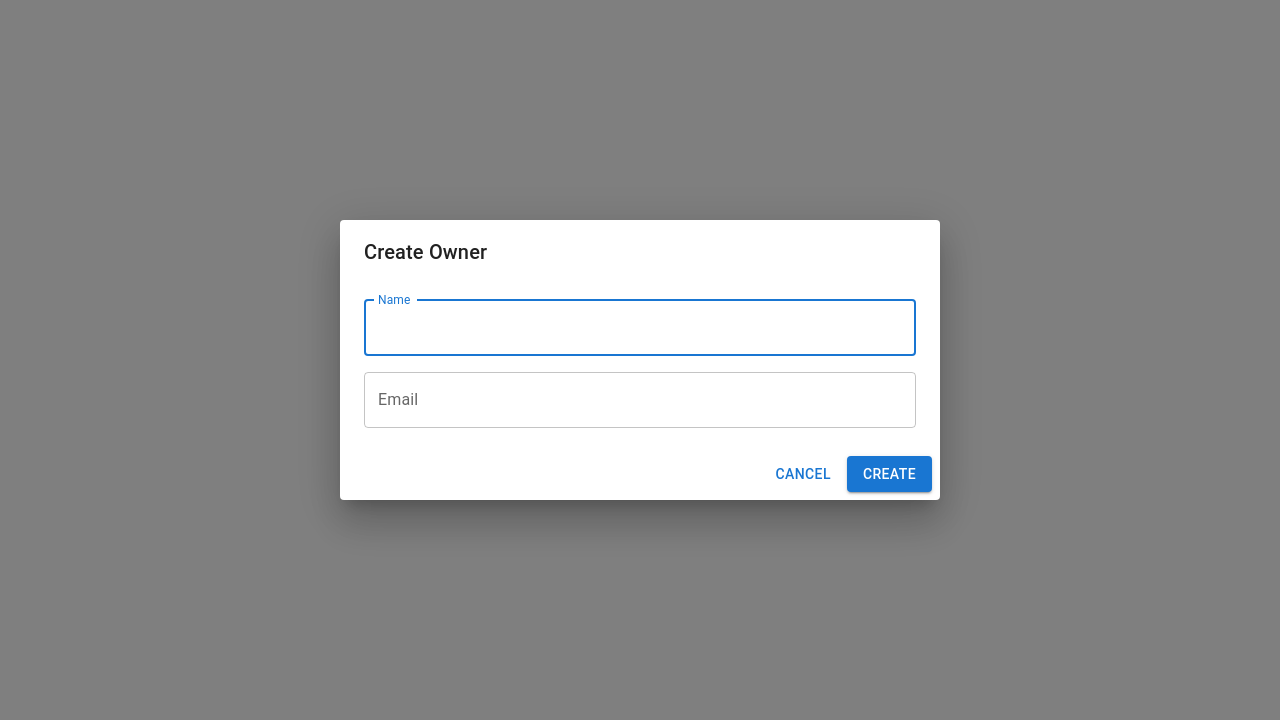
Test: CreateOwnerDialog validation › shows required errors when submitted with empty fields
The image size is (1280, 720).
Click the button "Create" at coordinates (889, 474), box [847, 456, 932, 492]
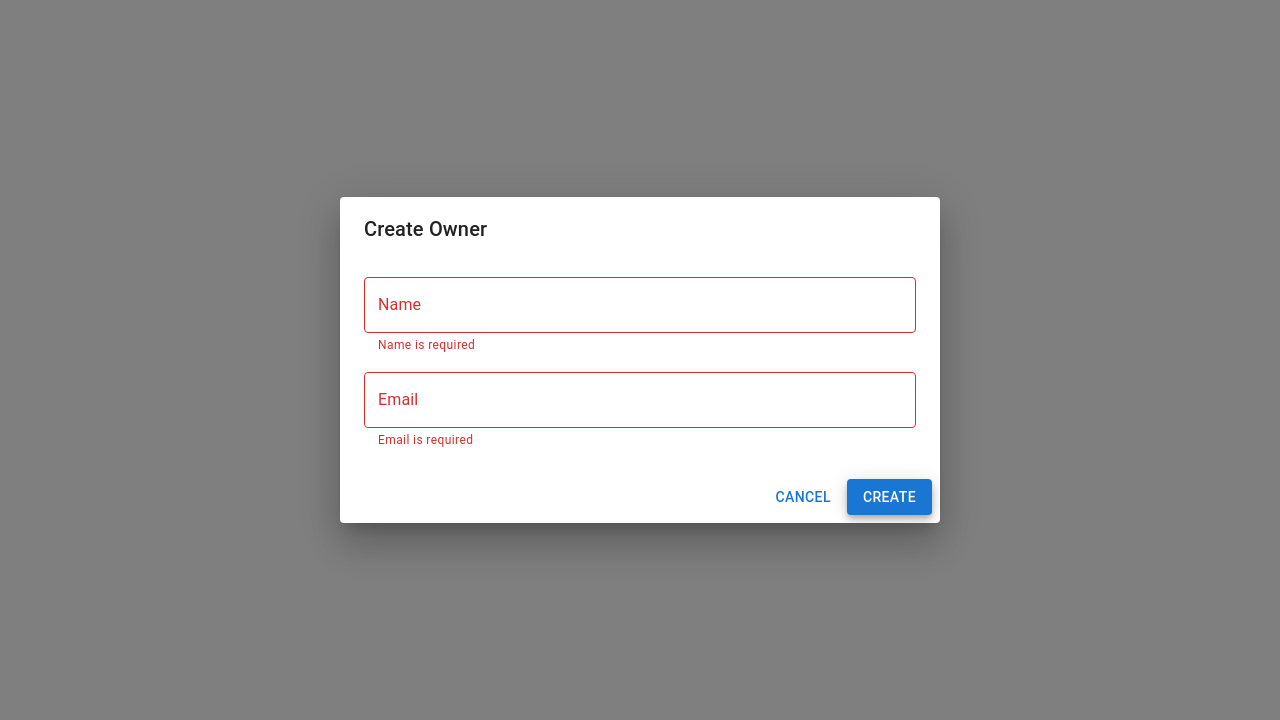
Check: the text "Name is required" is shown, box [378, 338, 475, 352]
Check: the text "Email is required" is shown, box [378, 433, 473, 447]
